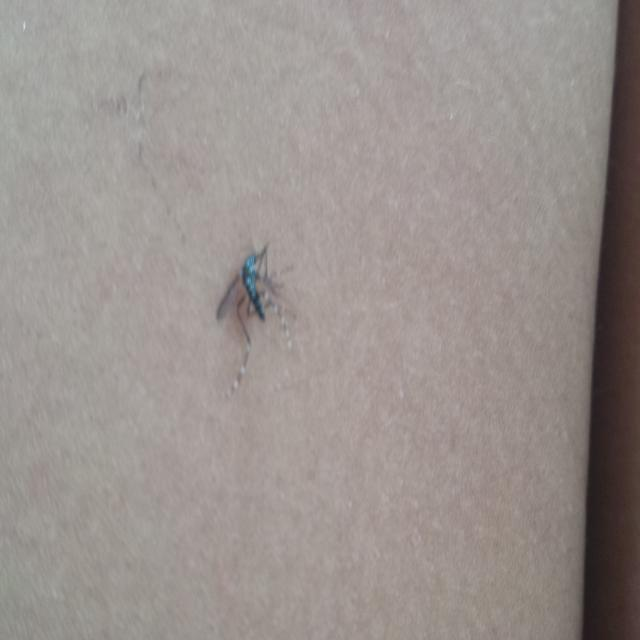albopictus: (214, 231, 288, 363)
